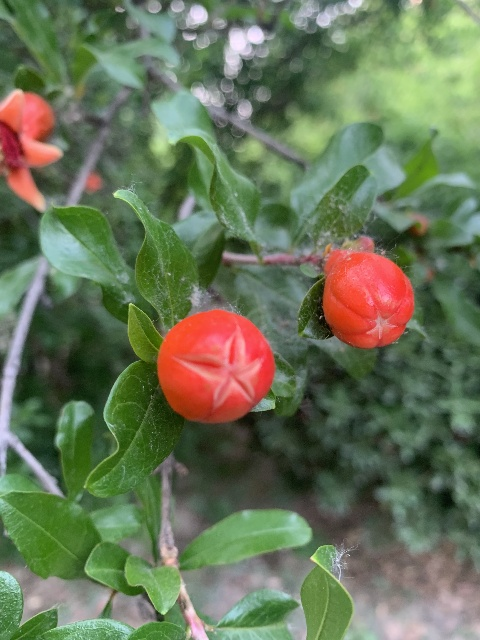bud: (156, 309, 274, 425), (322, 247, 414, 349)
flower: (0, 90, 62, 212)
